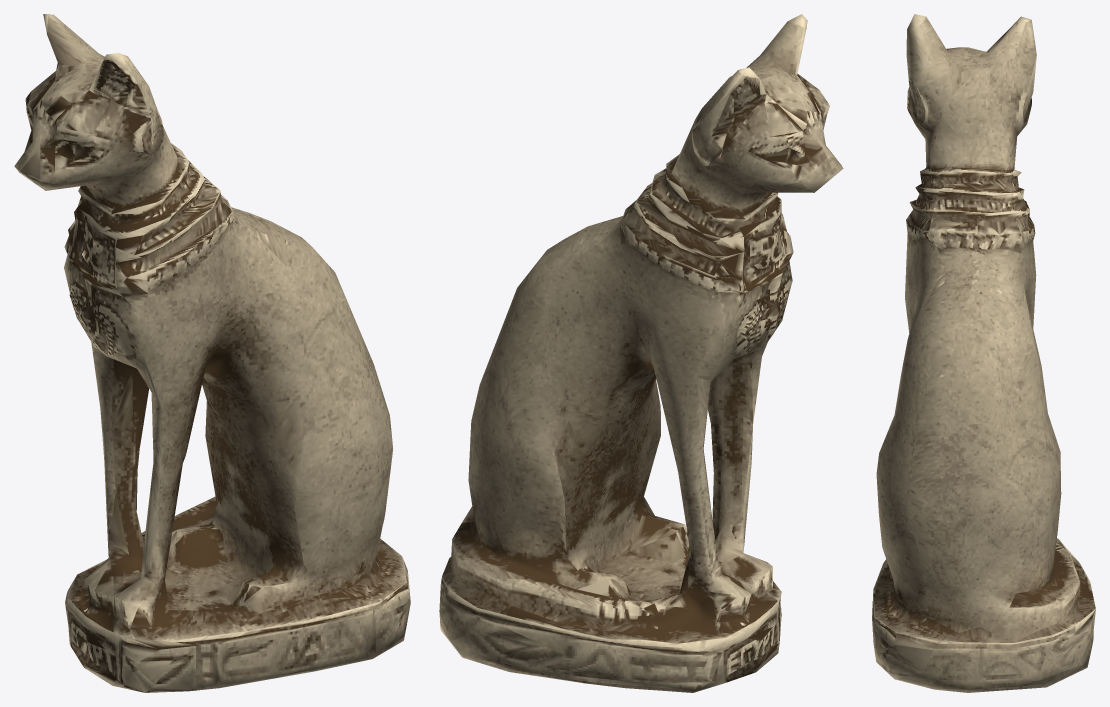
Rendered from GatoEgipcioTienda.fbx.
3 views of the same model, side by side, from view 1: azimuth 30°, elevation 25°; view 2: azimuth 150°, elevation 25°; view 3: azimuth 270°, elevation 25° (orthographic). The views are drawn at different scales.
Visible parts, largest first — view 1: LOW; view 2: LOW; view 3: LOW.
Boxes of the visible parts, box(x1,y1,x2,y2) form: LOW: box(14, 14, 410, 692); LOW: box(439, 14, 843, 692); LOW: box(872, 14, 1095, 692).
Bounding box in the file's own units: 54.46 × 88.76 × 32.66.
